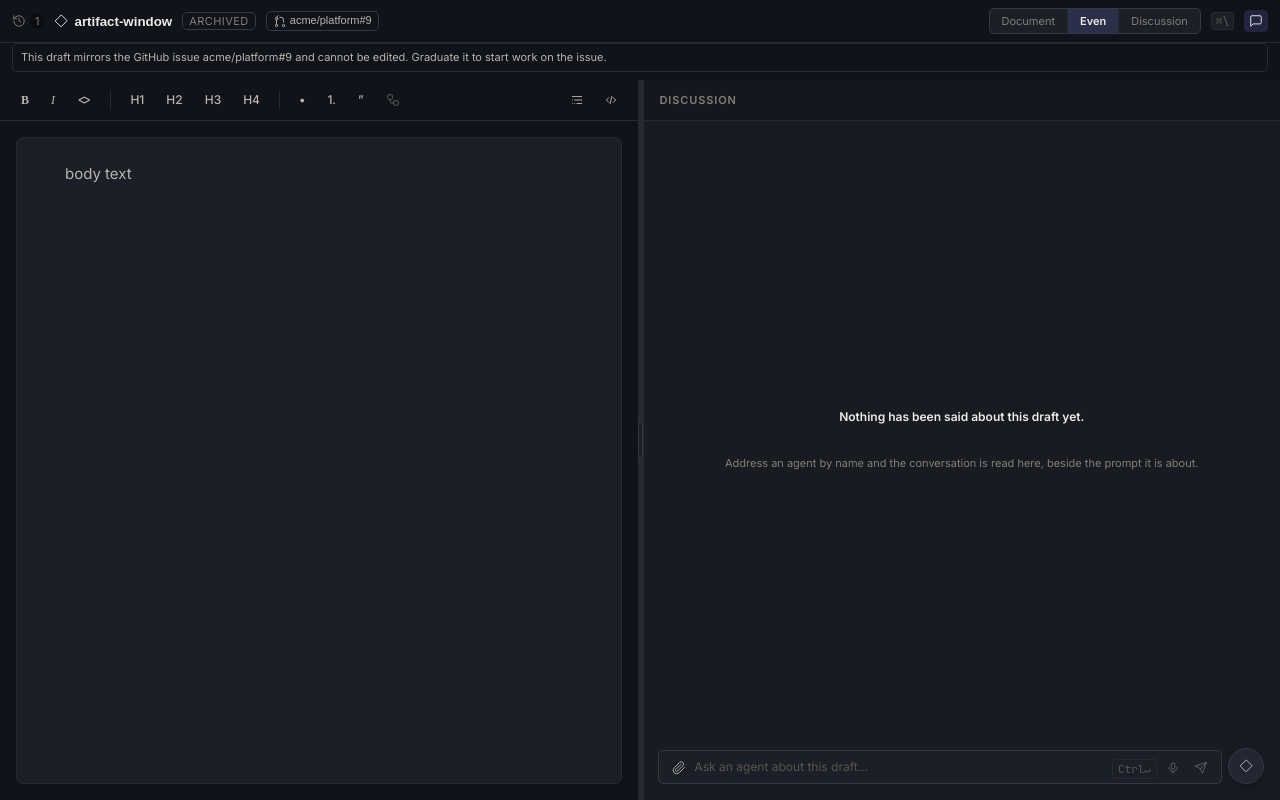
Test case: New Artifact workspace — a GitHub-shadow draft › NAW-FR-AXFQ: Restore is disabled on a shadow draft too
Expected: the text with test id "draft-github-shadow-banner" is shown, top-left (12, 43), bottom-right (1268, 72)
Click the button named "Draft actions" at (1246, 766), box top-left (1228, 748), bottom-right (1264, 784)
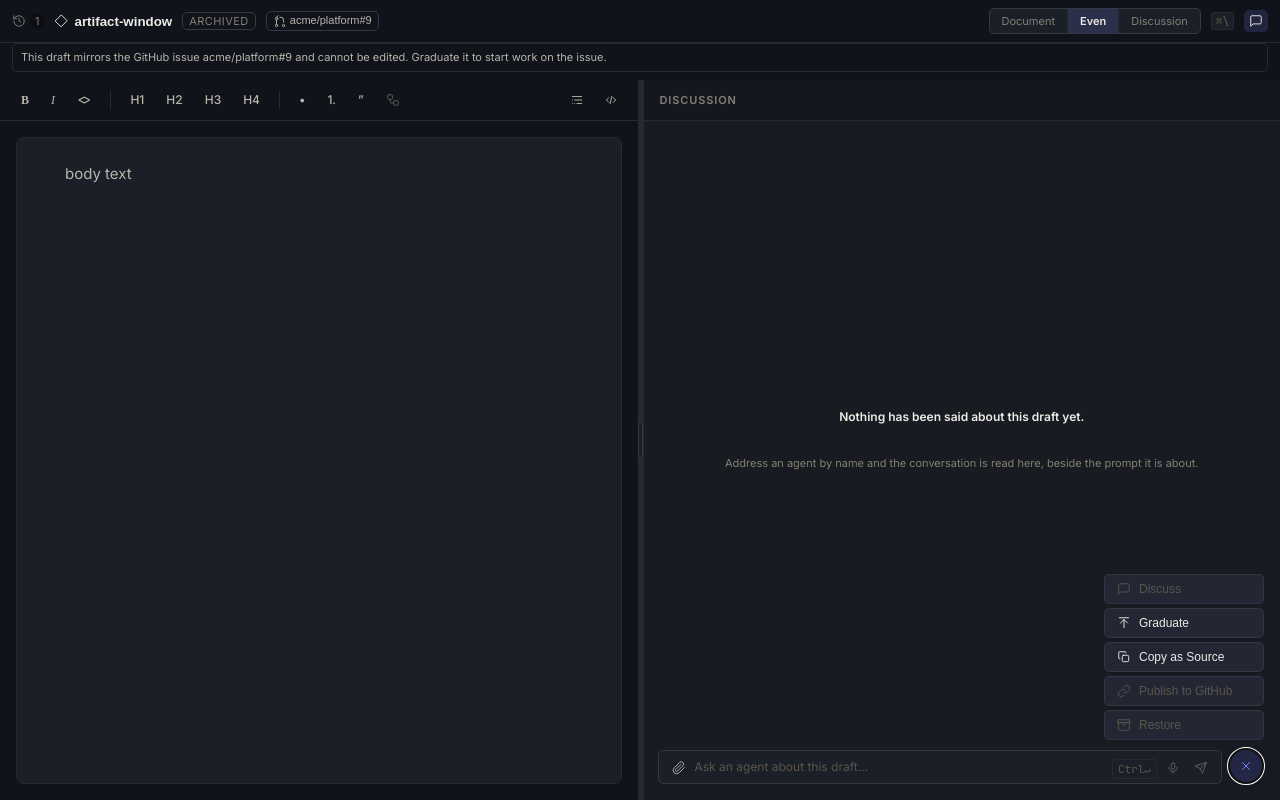
Expected: the menu item "Restore" is disabled, top-left (1104, 710), bottom-right (1264, 740)
